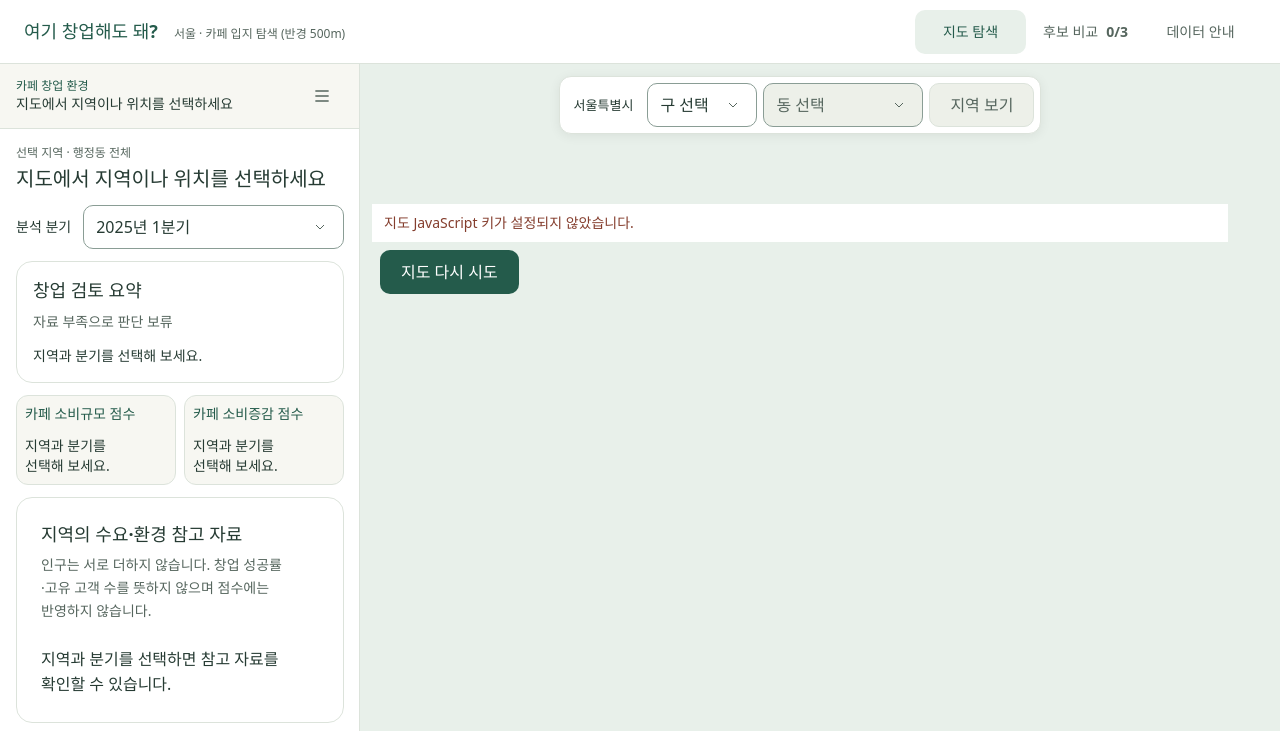
행정동 통계 화면 › code query로 조회하고 정상 값과 기준 조건을 표시한다
Select "종로구" in the dropdown named "자치구" at (702, 105), box [647,83,757,127]
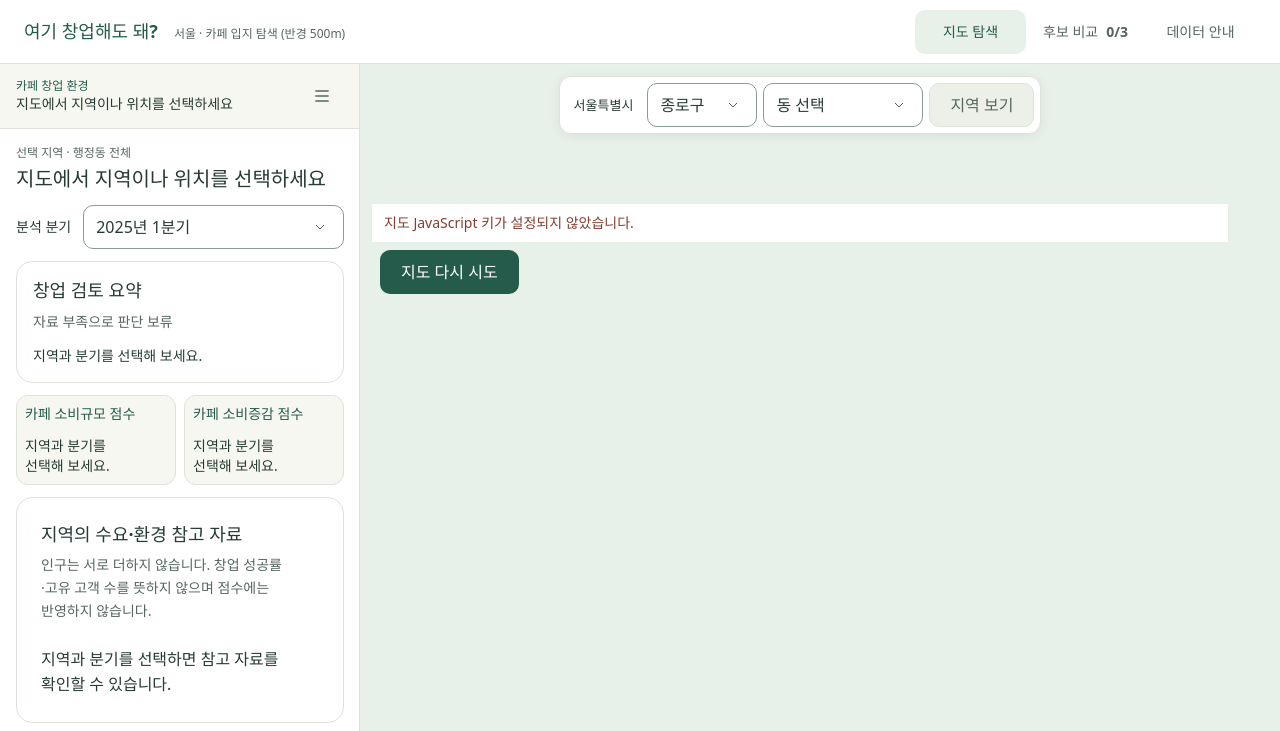
Select "청운효자동" in the dropdown named "행정동" at (843, 105), box [763,83,923,127]
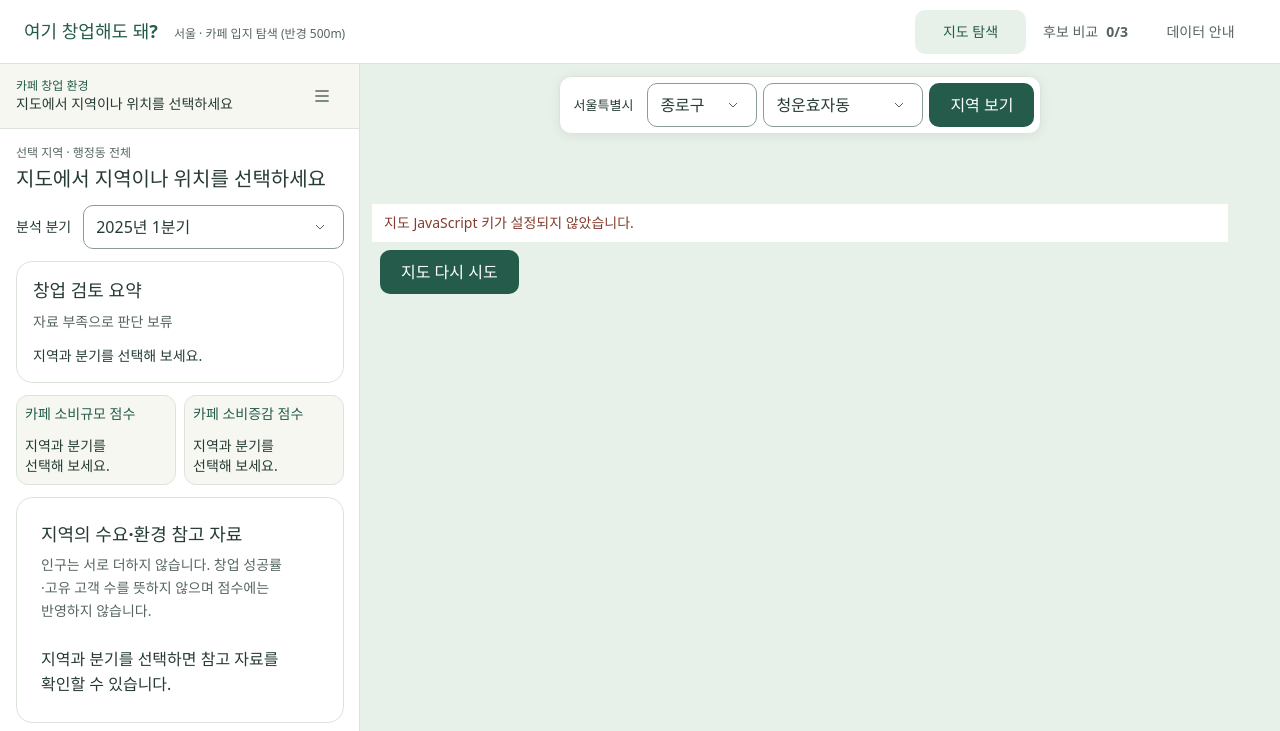
Click the button "지역 보기" at (982, 105), box [929,83,1034,127]
(page scrolled)
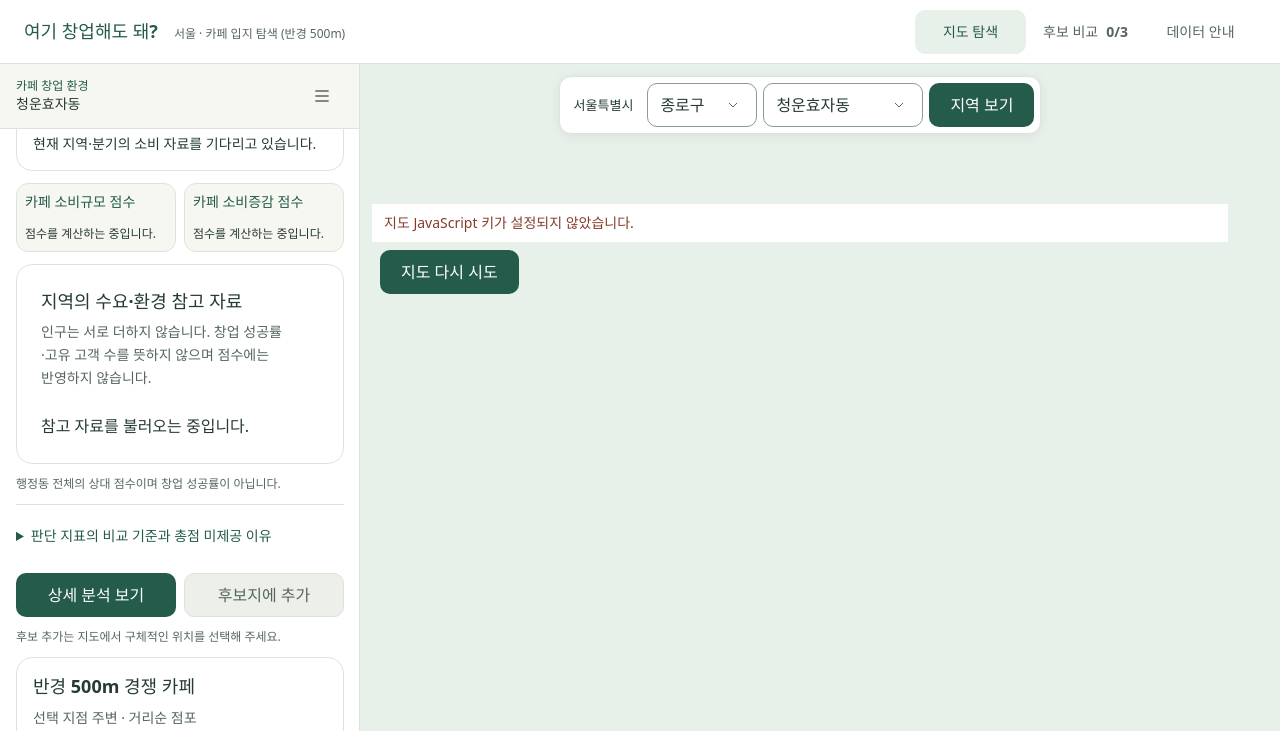
Click the button "상세 분석 보기" at (96, 595), box [16,573,176,617]
(page scrolled)
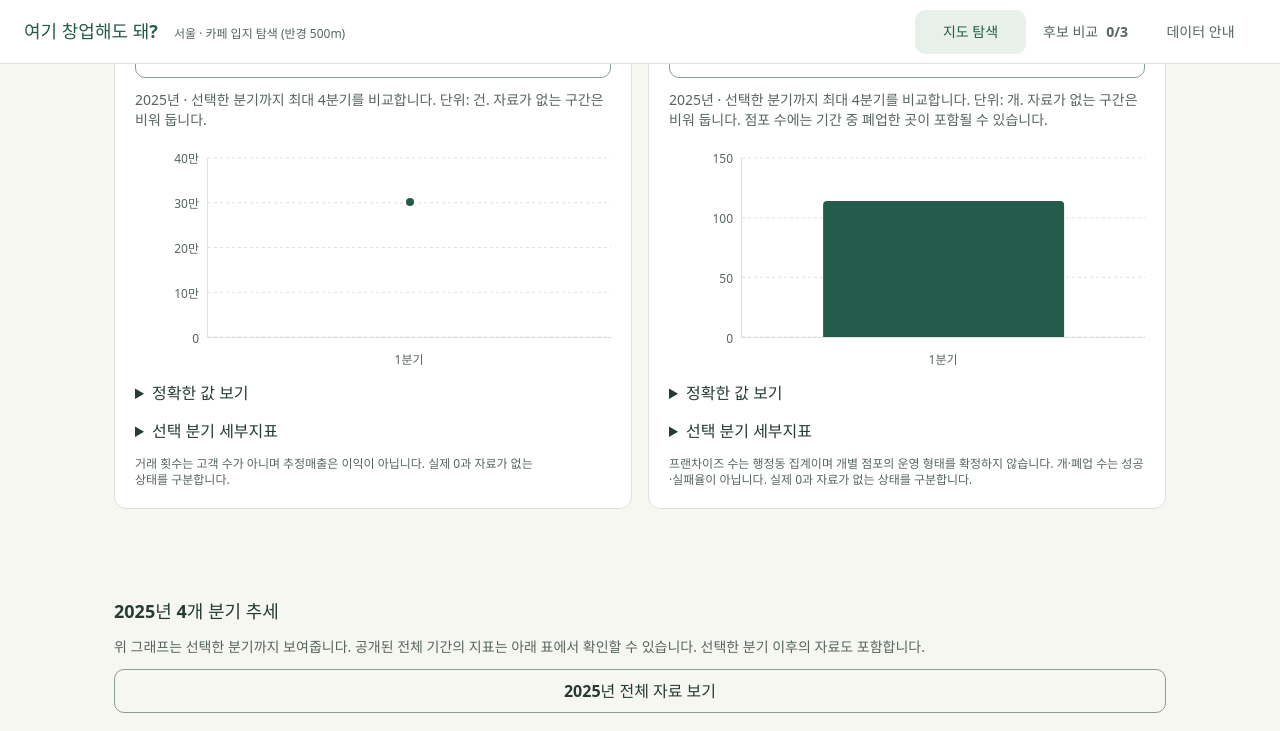
Click the heading "선택 분기 세부지표" below "10만" at (215, 431), box [152,420,278,442]
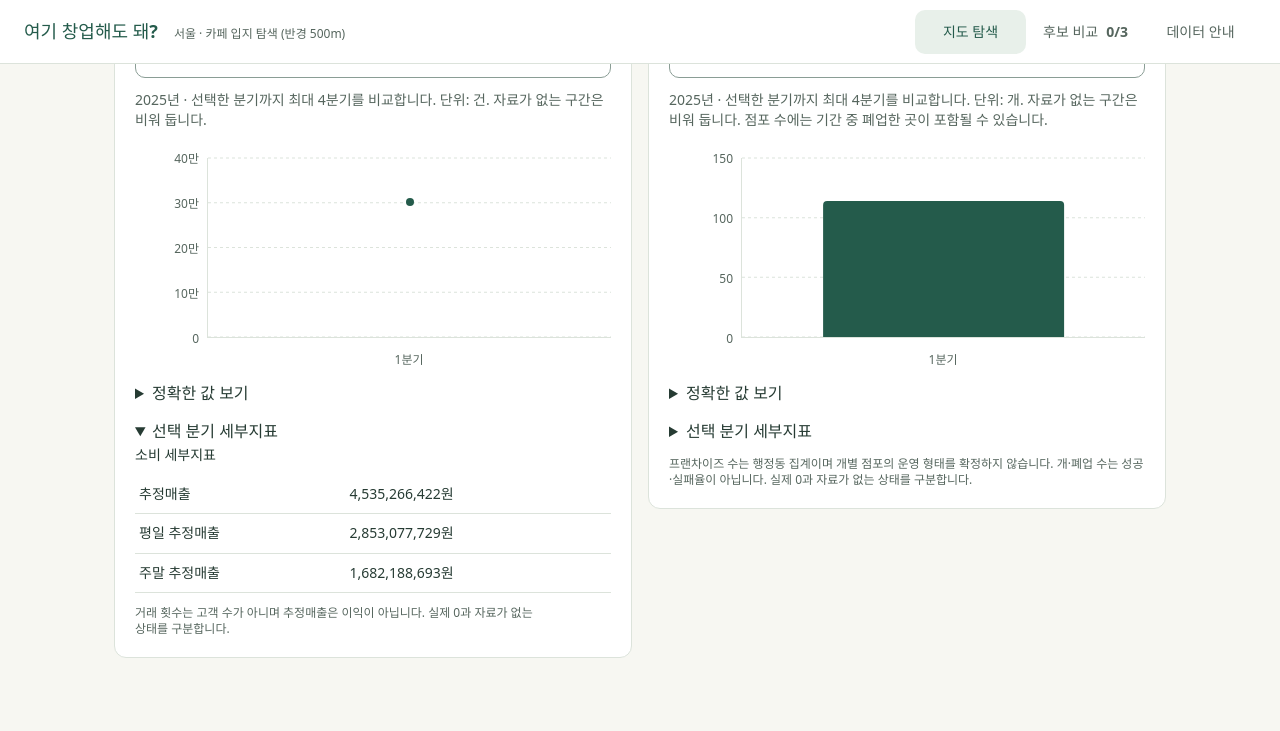
Click the heading "선택 분기 세부지표" below "100" at (749, 431), box [686,420,812,442]
(page scrolled)
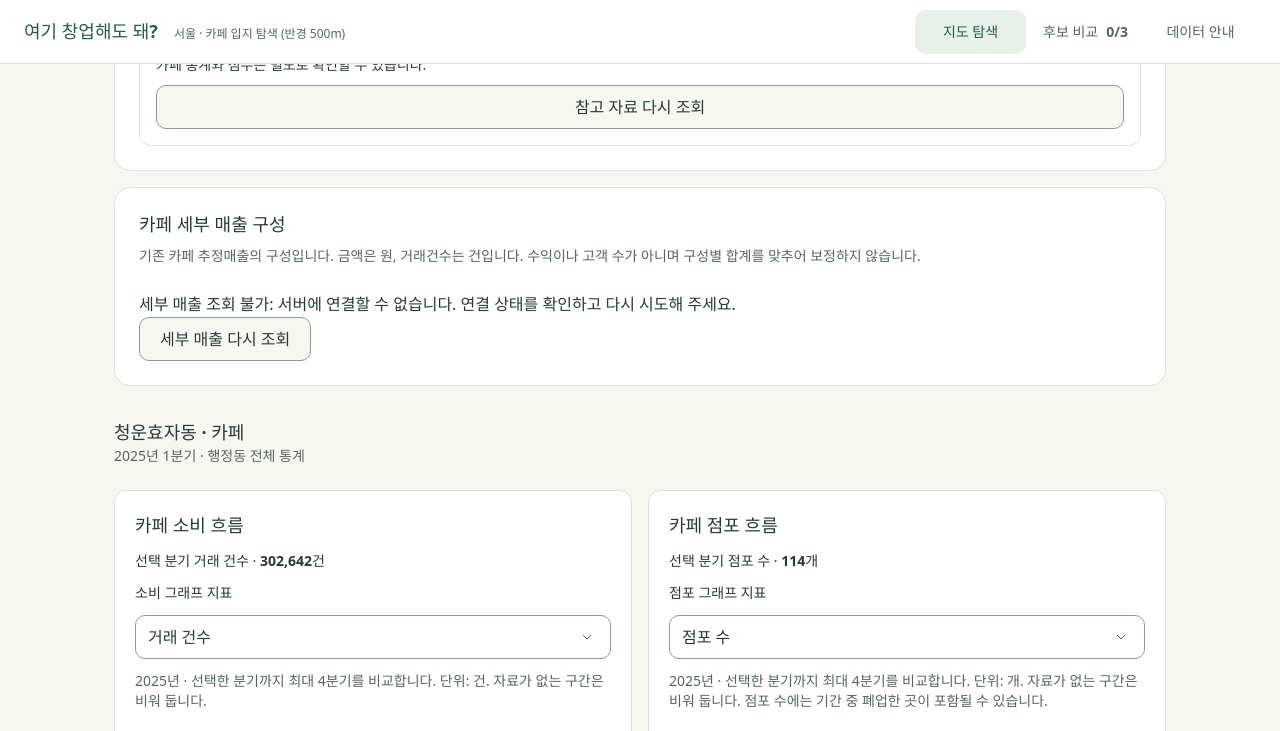
Result: the text "114개" is shown at [781,551,818,570]
Result: the text "302,642건" is shown at [260,551,325,570]
Result: the heading "청운효자동 · 카페" is shown at [114,420,244,444]
